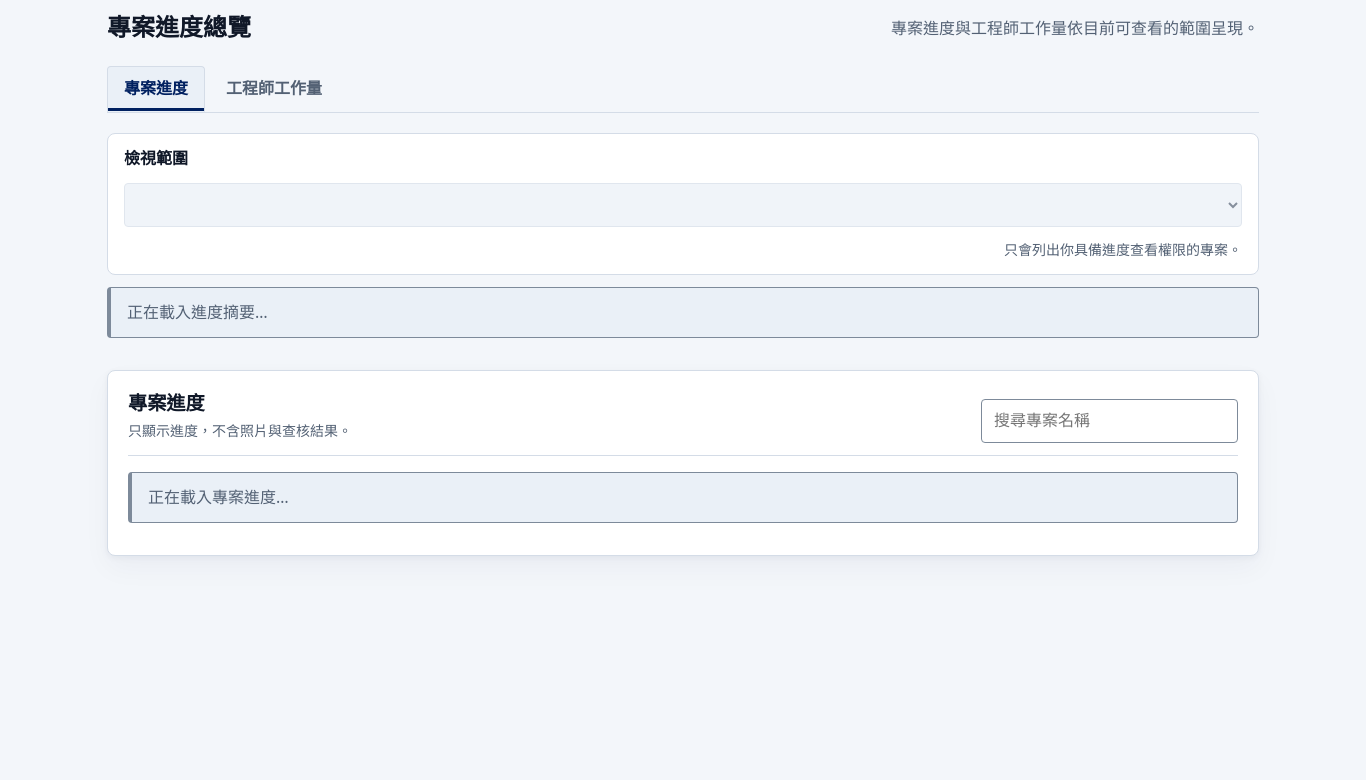
Dashboard 頁面 › 專案切換後忽略較晚回來的舊工程師分頁
This screenshot has width=1366, height=780.
Click the tab "工程師工作量": click(274, 89) [209, 66, 339, 112]
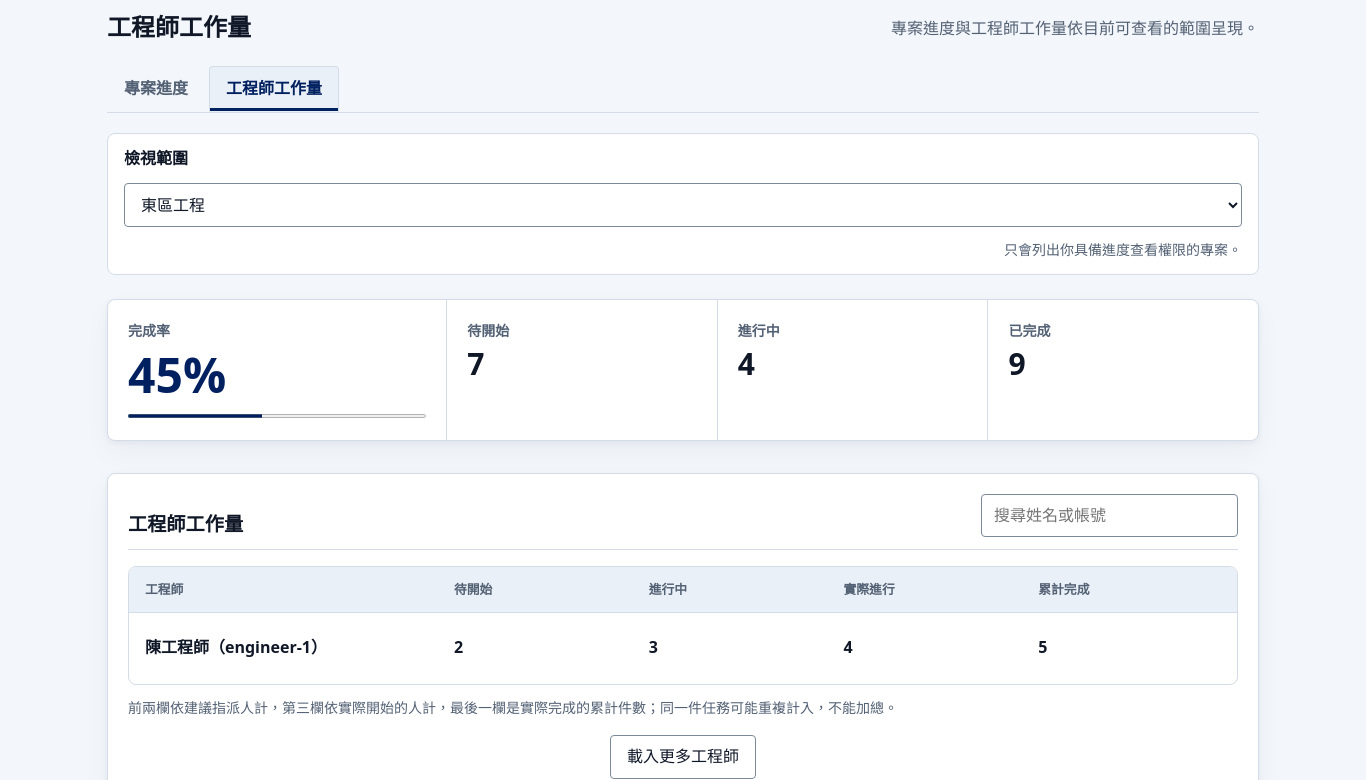
Check: the text "陳工程師（engineer-1）" is shown, box [145, 636, 327, 658]
Click the button "載入更多工程師": click(683, 757) [610, 735, 756, 779]
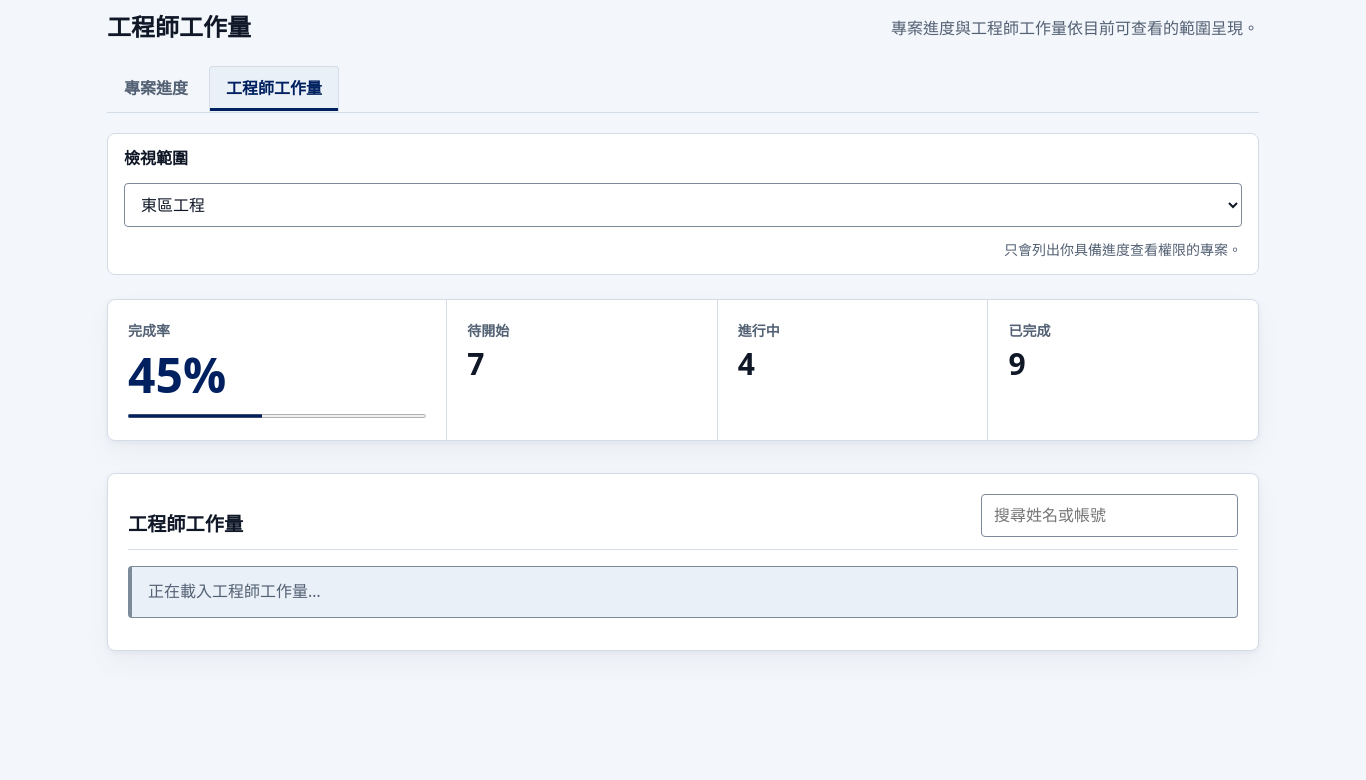
Select "西側工程" in the dropdown labelled "檢視範圍": (683, 205) [124, 183, 1242, 227]
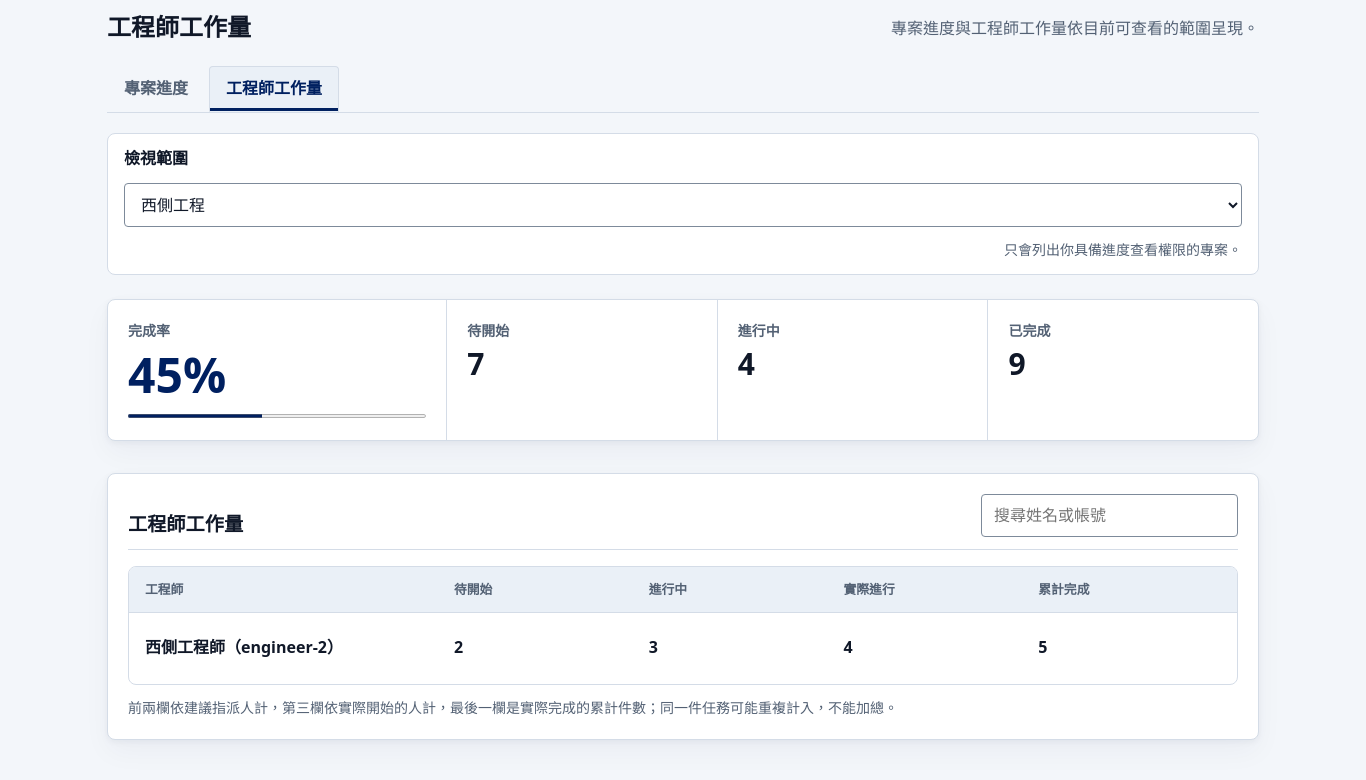
Check: the text "西側工程師（engineer-2）" is shown, box [145, 636, 343, 658]
